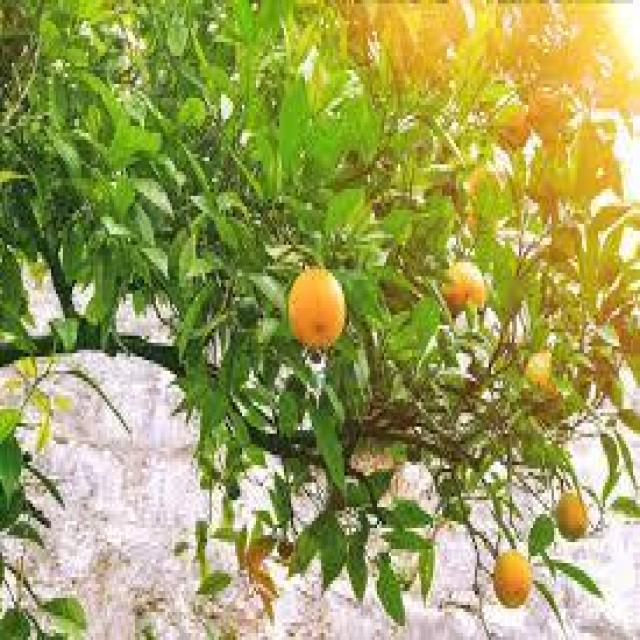fruit: (286, 265, 348, 352), (492, 547, 532, 607), (443, 259, 487, 313), (528, 87, 569, 143), (555, 486, 590, 540), (465, 165, 496, 220), (497, 101, 532, 148), (548, 222, 582, 268), (524, 348, 556, 393), (532, 172, 566, 214), (611, 310, 639, 360), (595, 251, 622, 291), (253, 577, 276, 617), (383, 282, 411, 314), (248, 540, 267, 570), (328, 485, 348, 512), (22, 354, 40, 381), (278, 537, 296, 561), (464, 208, 478, 231)
